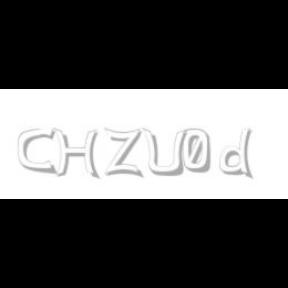0: (182, 128, 214, 174)
C: (18, 128, 55, 174)
H: (53, 128, 99, 180)
U: (142, 128, 186, 178)
Z: (104, 128, 142, 178)
d: (219, 128, 256, 180)
